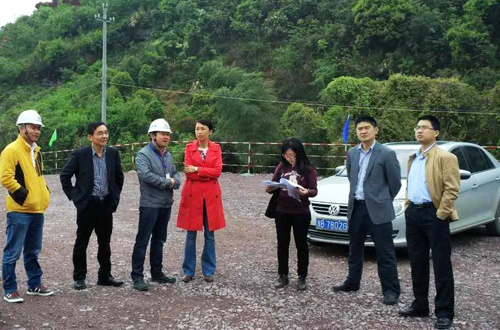none: (414, 113, 440, 145), (85, 119, 108, 148), (353, 116, 377, 143), (280, 138, 303, 165), (193, 117, 214, 143)
white: (15, 107, 44, 143), (148, 117, 171, 146)
